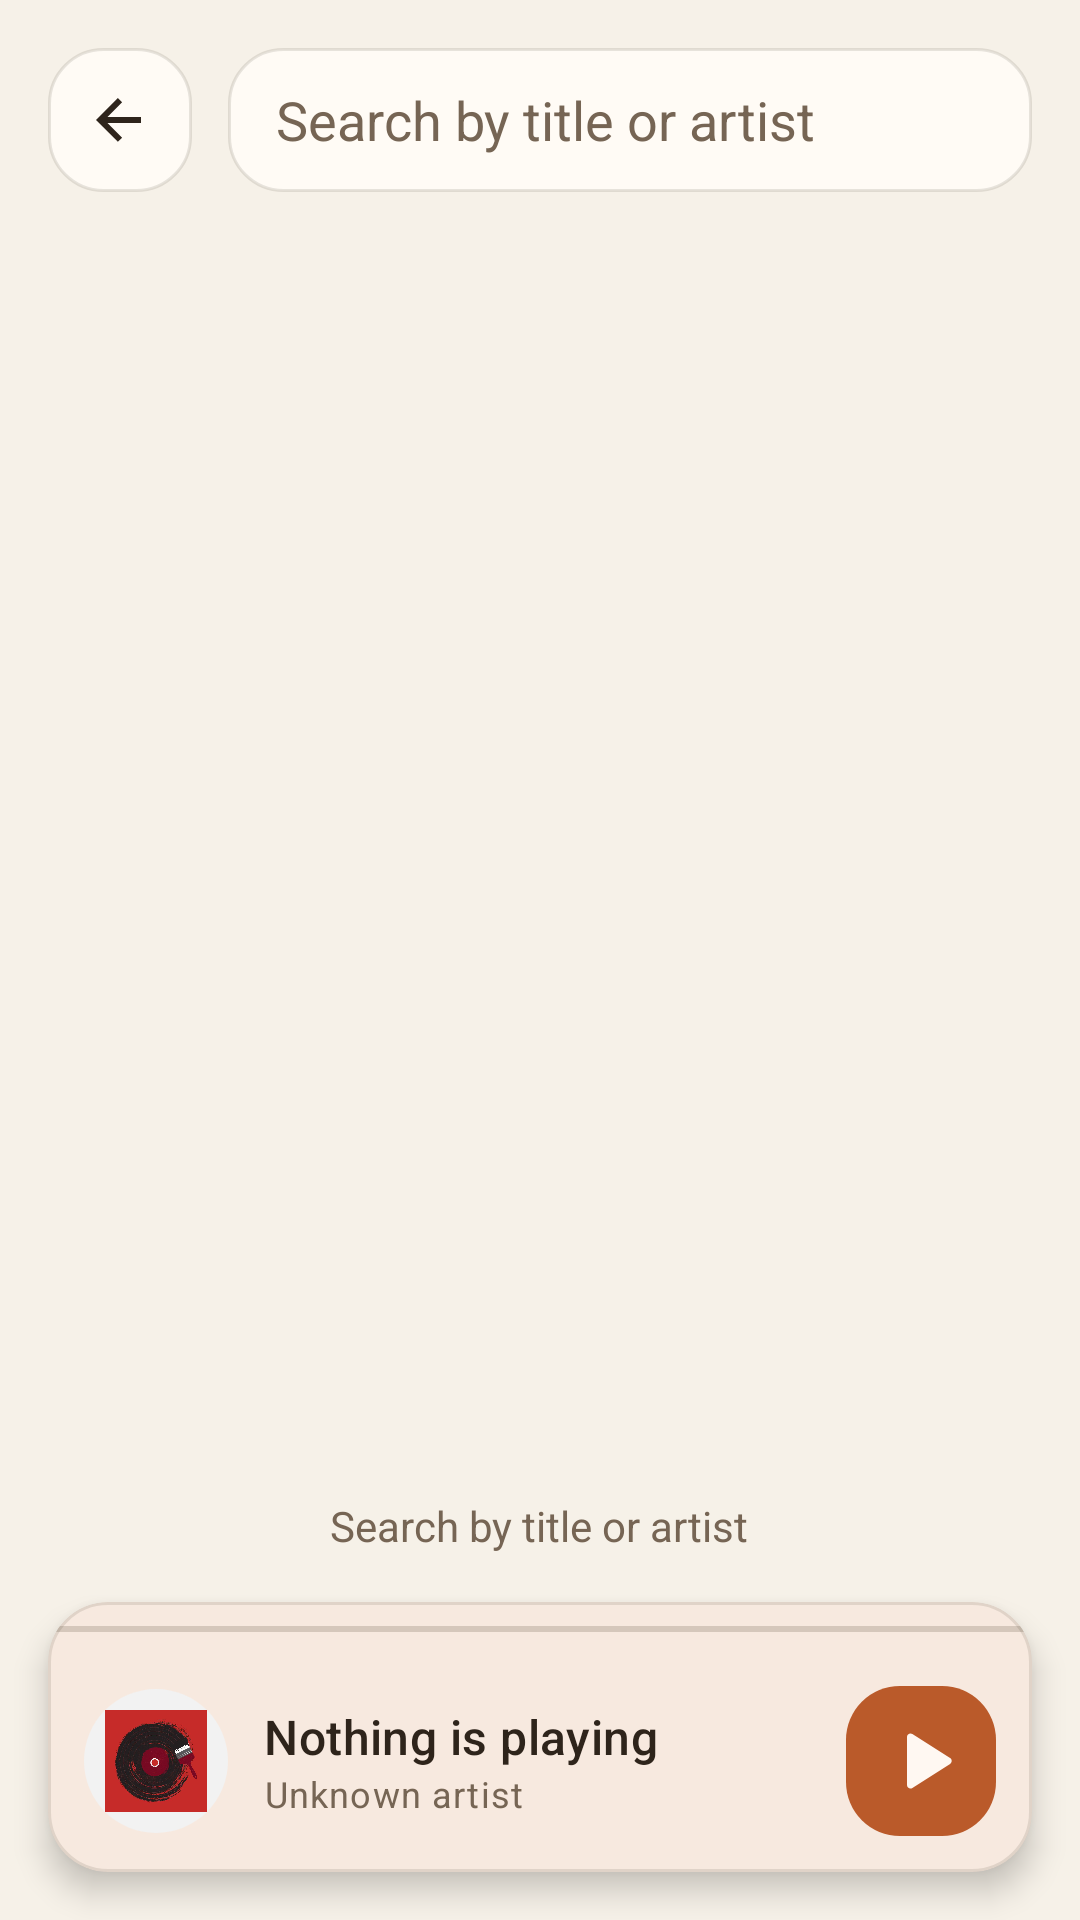

Icon click points for this 1080 x 1920 phone screenshot, format (x,y):
Back: (120,120)
